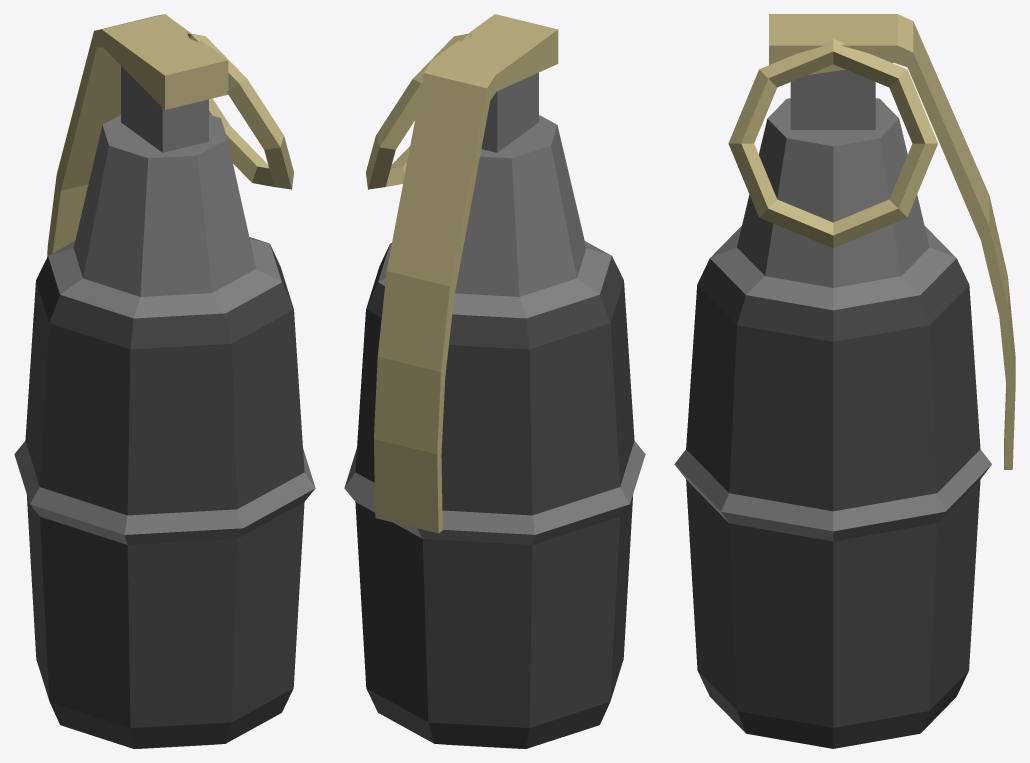
The model's file is Grenade-02.fbx.
The picture shows the model from 3 angles, left to right: view 1: azimuth 30°, elevation 25°; view 2: azimuth 150°, elevation 25°; view 3: azimuth 270°, elevation 25°; orthographic projection.
Parts seen in each view (by area): view 1: Cylinder.016; view 2: Cylinder.016; view 3: Cylinder.016.
Boxes of the visible parts, x1,y1,x2,y2 form: Cylinder.016: [14, 14, 315, 748]; Cylinder.016: [344, 14, 645, 748]; Cylinder.016: [674, 14, 1015, 748].
Bounding box in the file's own units: 106 × 252 × 114.
